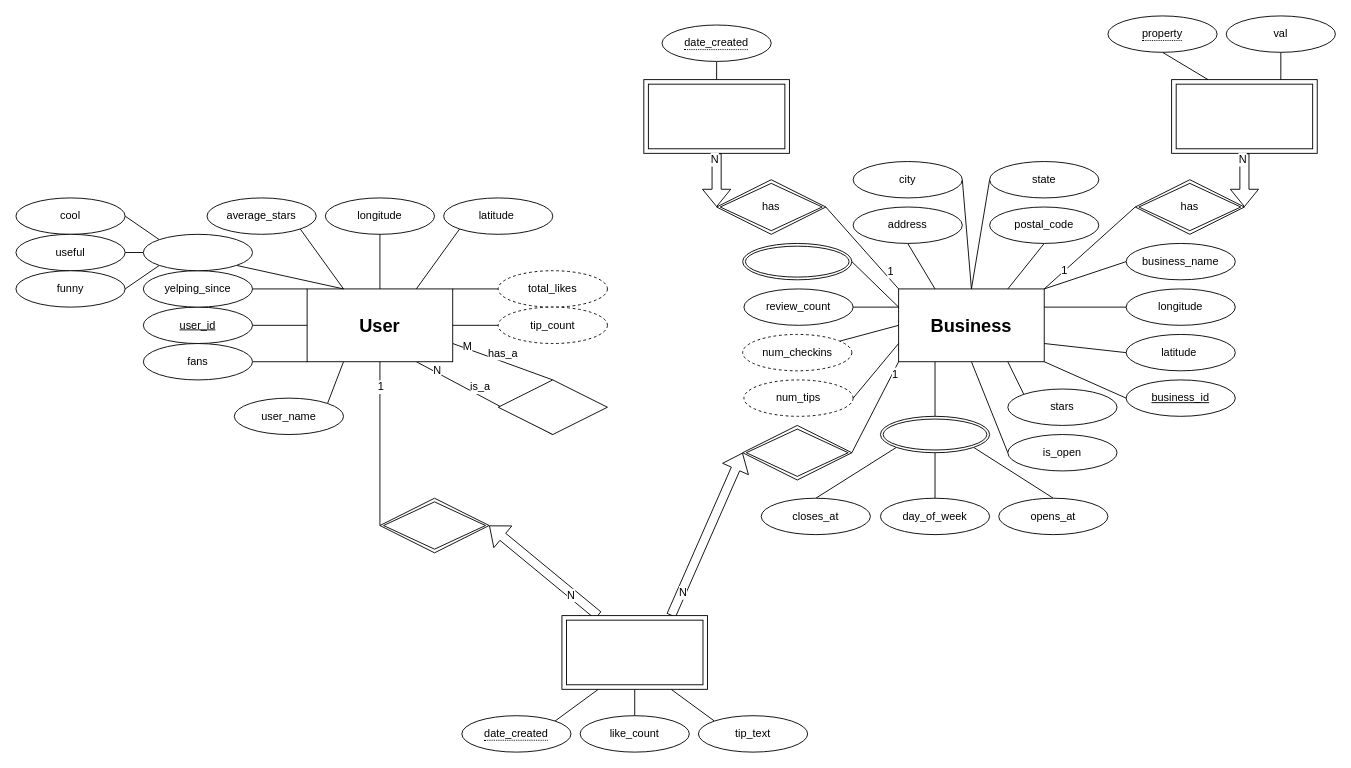
This 1351x768 diagram has some shape labels left out. Here are the shapes that lost their labels. From the top down, the box of each, then its label:
(643, 79, 789, 153): Checkin
(1171, 79, 1317, 153): Business Attribute
(142, 233, 253, 271): votes
(742, 243, 852, 280): Business_Category
(497, 379, 607, 435): Friendship
(742, 425, 852, 480): about
(880, 415, 990, 453): Business_Hours
(379, 497, 489, 553): creates
(561, 615, 708, 689): Tip
